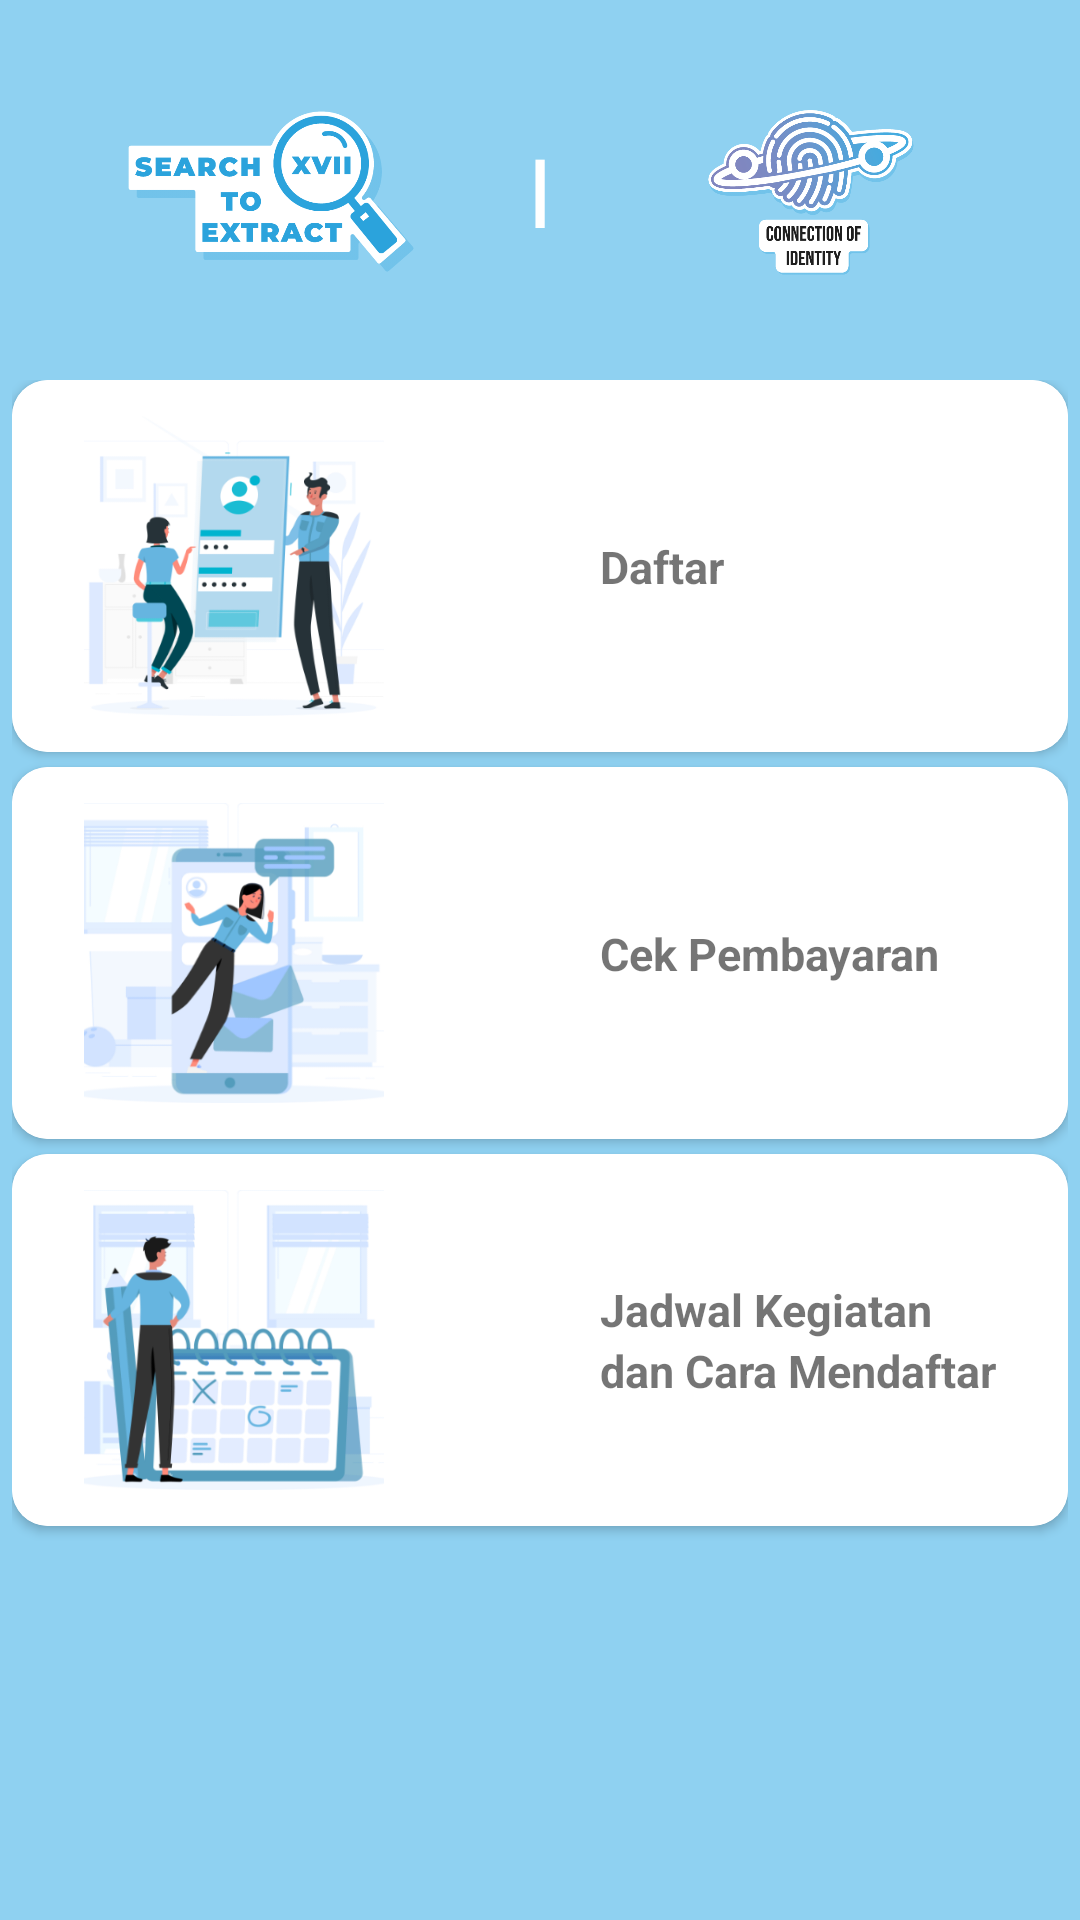

Icon bounding boxes for this 1080×1920 phone screenshot, format (x1, y1, x2, y2):
jadwal: (84, 1205, 374, 1483)
registrasi: (89, 452, 370, 710)
